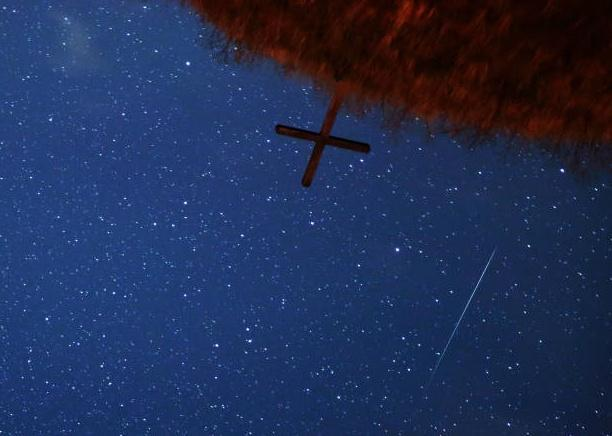meteorite: (424, 246, 501, 394)
